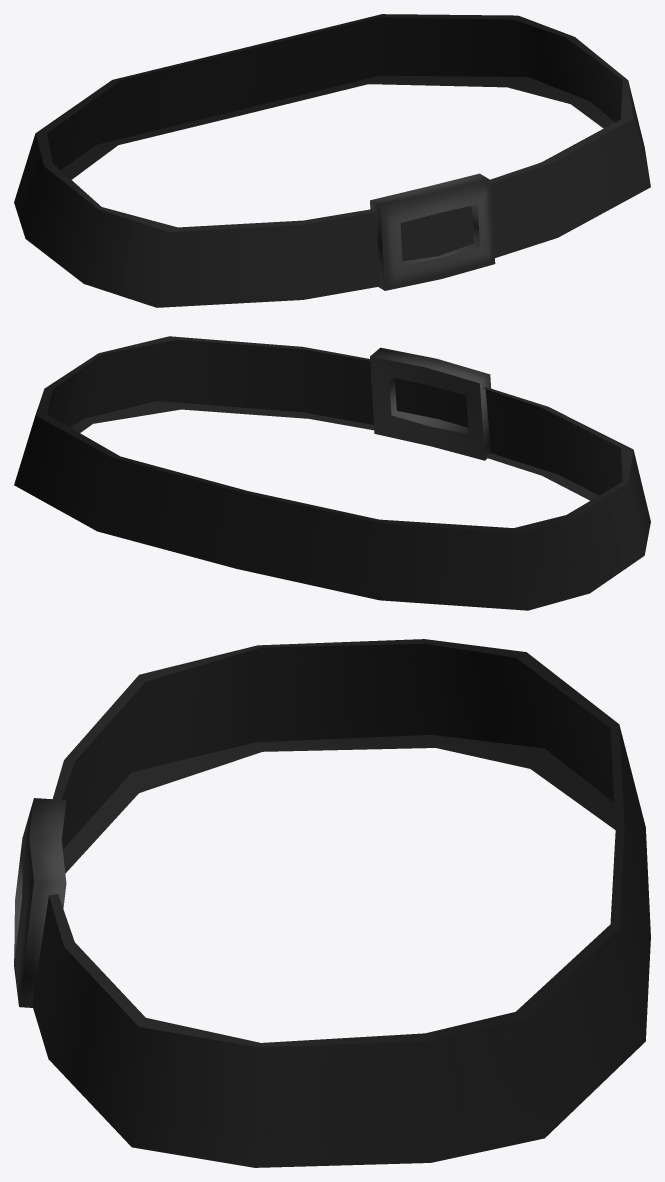
File: belt.obj
The picture shows the model from 3 angles, top to bottom: view 1: azimuth 30°, elevation 25°; view 2: azimuth 150°, elevation 25°; view 3: azimuth 270°, elevation 25°; orthographic projection. The views are drawn at different scales.
Visible parts, largest first — view 1: belt; view 2: belt; view 3: belt.
Part boxes in pixels (x1,y1,x2,y2): belt: (14, 14, 650, 307); belt: (14, 336, 650, 610); belt: (14, 639, 650, 1167).
Bounding box in the file's own units: 1.66 × 0.2565 × 1.04.
